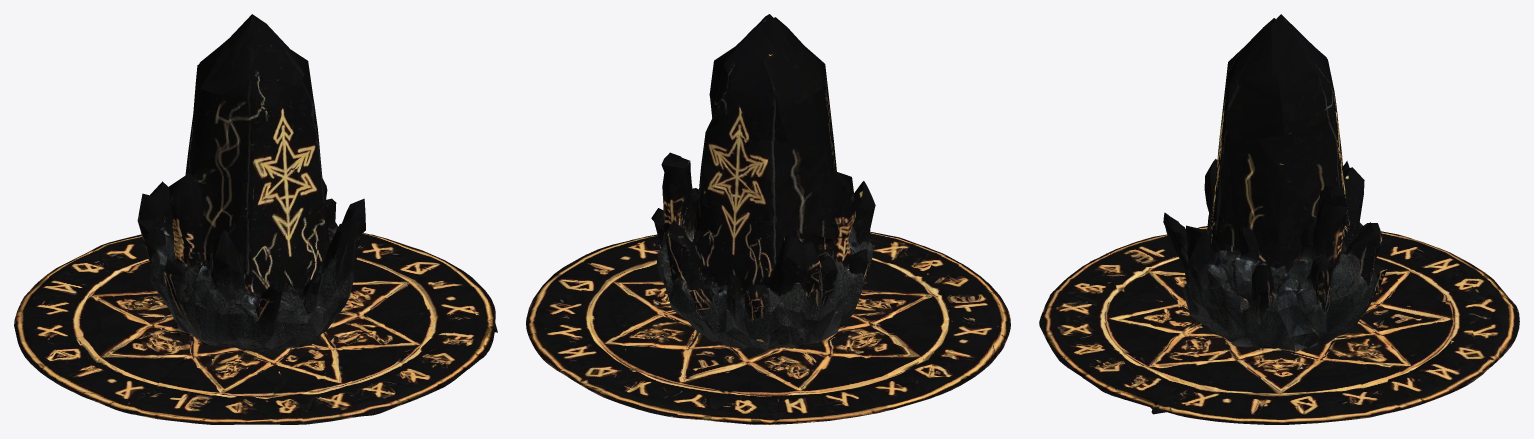
The model's file is altar-rune-prism.glb.
The picture shows the model from 3 angles, left to right: view 1: azimuth 30°, elevation 25°; view 2: azimuth 150°, elevation 25°; view 3: azimuth 270°, elevation 25°; orthographic projection.
Bounding box in the file's own units: 1.9 × 1.36 × 1.89.
Materials: 1 (1 with a texture image).
